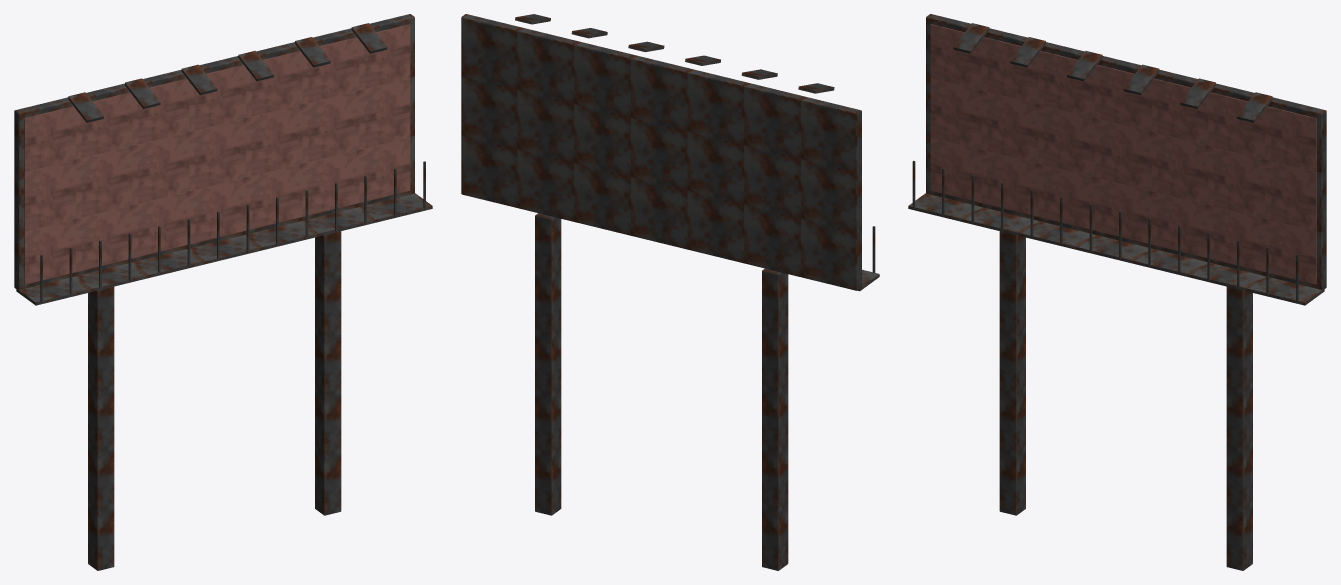
The model's file is ST11_HoardingStand.glb.
3 renders of one model, left to right at view 1: azimuth 30°, elevation 25°; view 2: azimuth 150°, elevation 25°; view 3: azimuth 330°, elevation 25°, orthographic.
Visible parts, largest first — view 1: ST11_HoardingStand; view 2: ST11_HoardingStand; view 3: ST11_HoardingStand.
Boxes of the visible parts, x1,y1,x2,y2 form: ST11_HoardingStand: [14, 14, 432, 570]; ST11_HoardingStand: [461, 14, 879, 570]; ST11_HoardingStand: [908, 14, 1326, 570].
Size of the model in its own units: 6.9 by 8 by 0.8323.
Materials: 2 (2 with a texture image).
